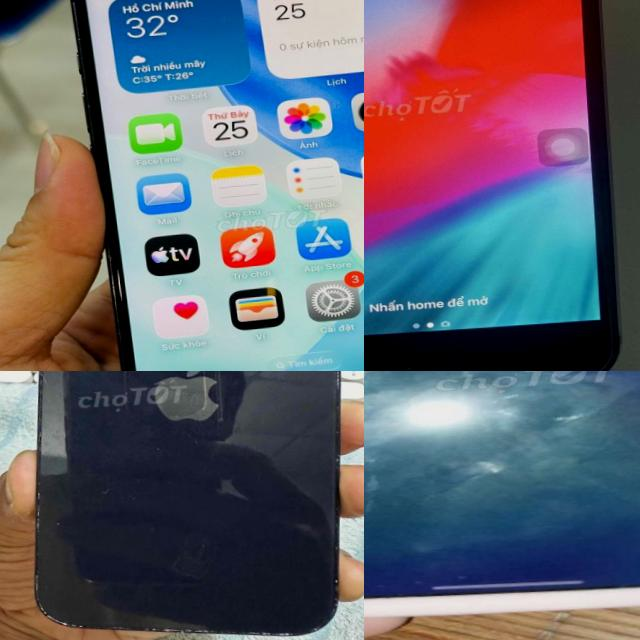gen_12_13: (0, 371, 364, 640)
gen_14: (364, 371, 640, 638)
gen_15: (29, 0, 364, 371)
gen_6: (364, 0, 640, 371)
